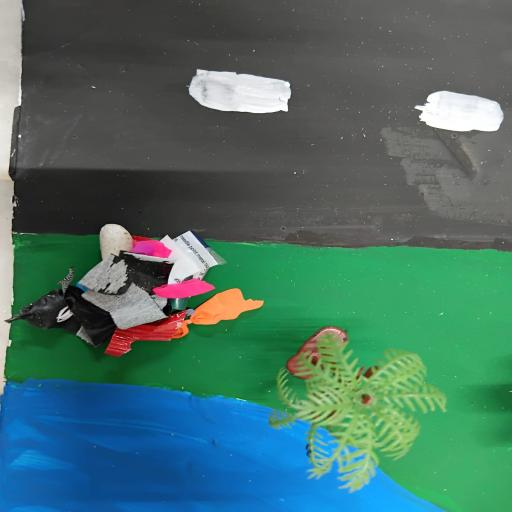trash: (24, 220, 270, 368)
